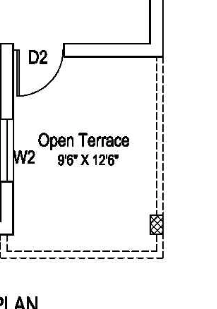door: (15, 42, 67, 100)
window: (1, 114, 18, 183)
